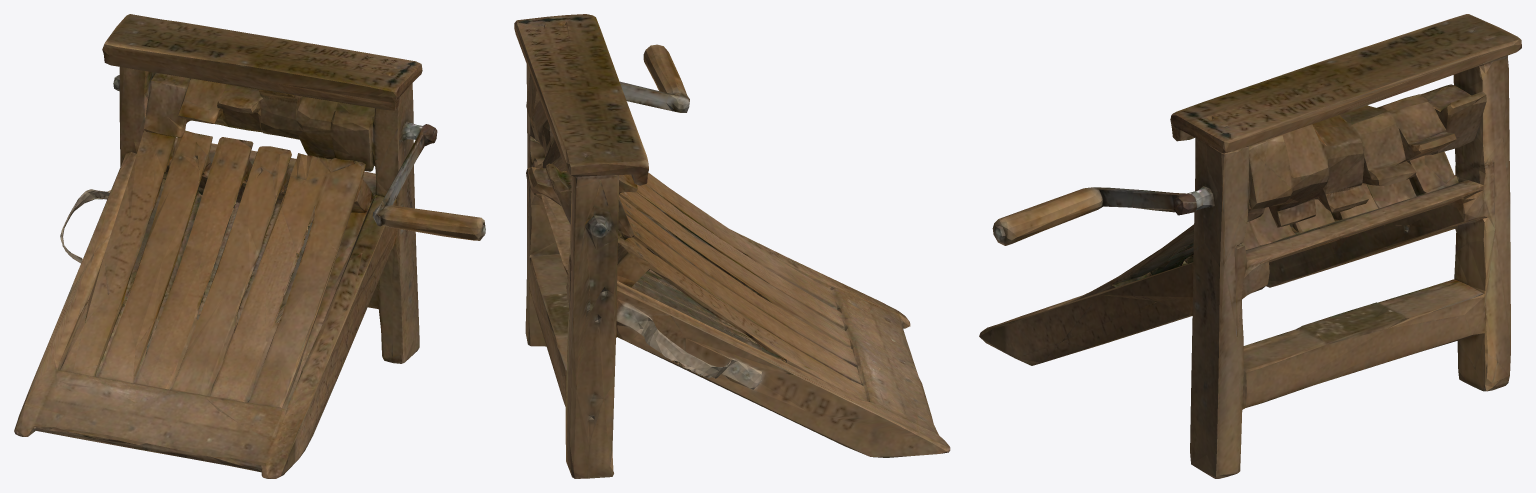
The picture shows the model from 3 angles, left to right: view 1: azimuth 30°, elevation 25°; view 2: azimuth 150°, elevation 25°; view 3: azimuth 270°, elevation 25°; orthographic projection. The views are drawn at different scales.
Visible parts, largest first — view 1: Ratschel_10k_0.5k; view 2: Ratschel_10k_0.5k; view 3: Ratschel_10k_0.5k.
Part boxes in pixels (x1=…): Ratschel_10k_0.5k: x1=14, y1=14, x2=485, y2=478; Ratschel_10k_0.5k: x1=514, y1=14, x2=950, y2=478; Ratschel_10k_0.5k: x1=979, y1=14, x2=1521, y2=478.
Bounding box in the file's own units: 0.5522 × 0.3789 × 0.5396.
Materials: 1 (1 with a texture image).
